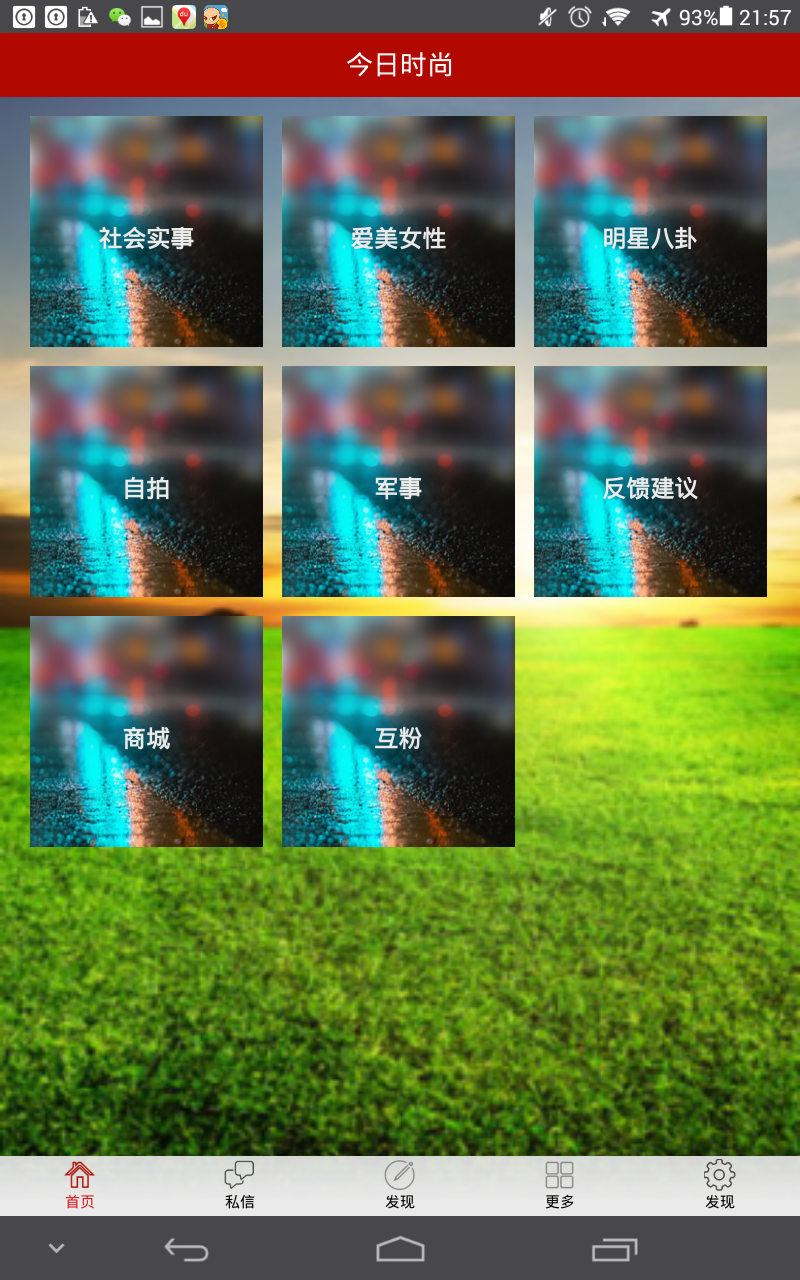imgview: (25, 109, 783, 610), (275, 616, 519, 856)
nav: (15, 1156, 764, 1216)
